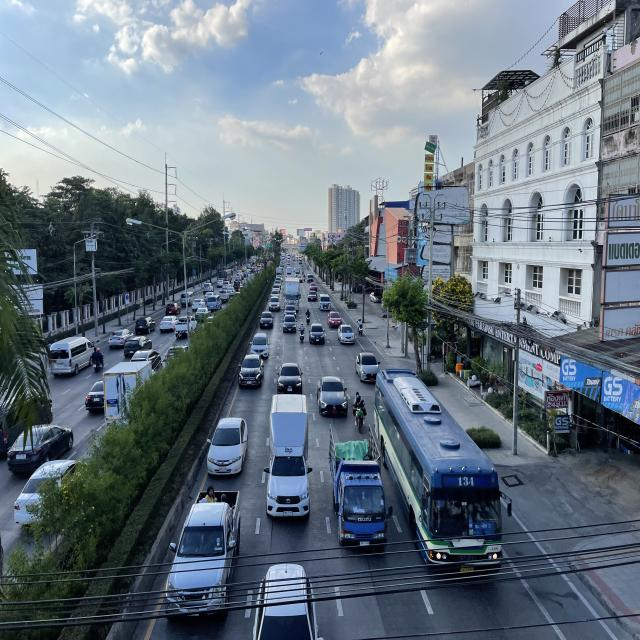bike: (353, 389, 367, 433), (356, 317, 364, 337), (298, 322, 305, 344), (305, 308, 311, 325)
bus: (373, 367, 513, 578)
car: (164, 488, 240, 620), (252, 563, 318, 640), (206, 413, 248, 478), (316, 376, 348, 417), (238, 353, 264, 389), (356, 352, 382, 384), (277, 363, 303, 394), (250, 332, 270, 359), (338, 324, 356, 346), (308, 323, 326, 345), (327, 310, 343, 328), (282, 315, 297, 333), (259, 311, 274, 329), (283, 305, 297, 318)
truck: (329, 423, 393, 554), (264, 393, 314, 522), (284, 277, 300, 313)
